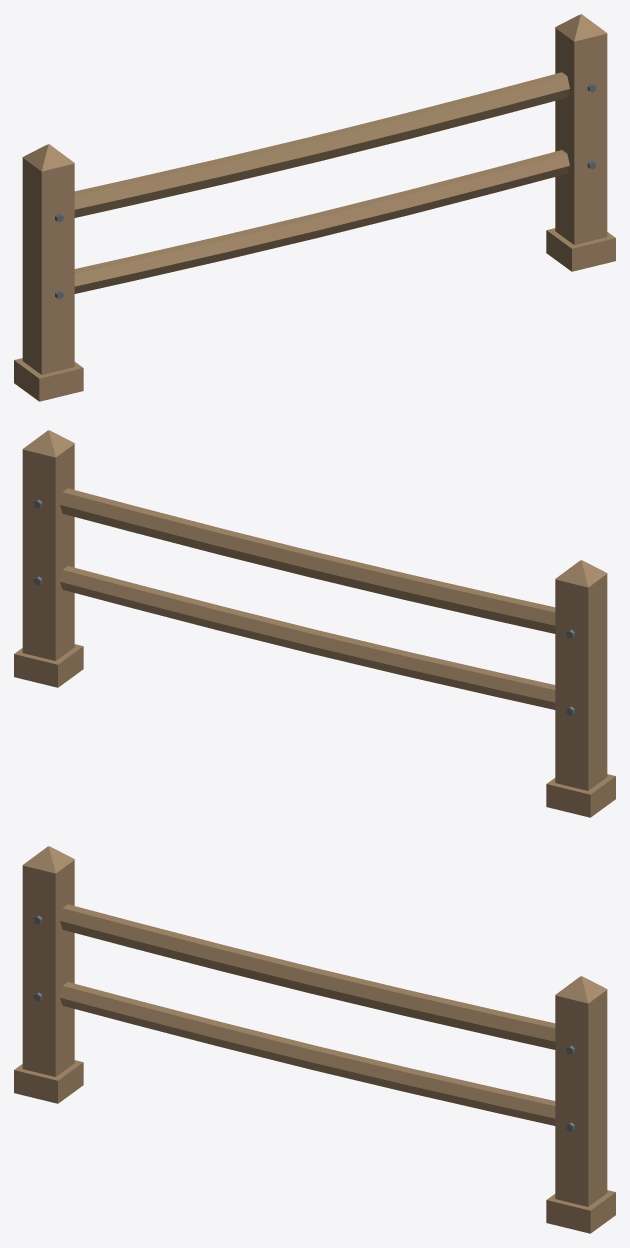
The model's file is fence_segment.glb.
3 renders of one model, top to bottom at view 1: azimuth 30°, elevation 25°; view 2: azimuth 150°, elevation 25°; view 3: azimuth 330°, elevation 25°, orthographic.
Visible parts, largest first — view 1: fence_timber; view 2: fence_timber; view 3: fence_timber.
Boxes of the visible parts, x1,y1,x2,y2 form: fence_timber: (14,14,615,401); fence_timber: (14,430,615,817); fence_timber: (14,846,615,1233).
Size of the model in its own units: 3.14 by 1.26 by 0.24.
